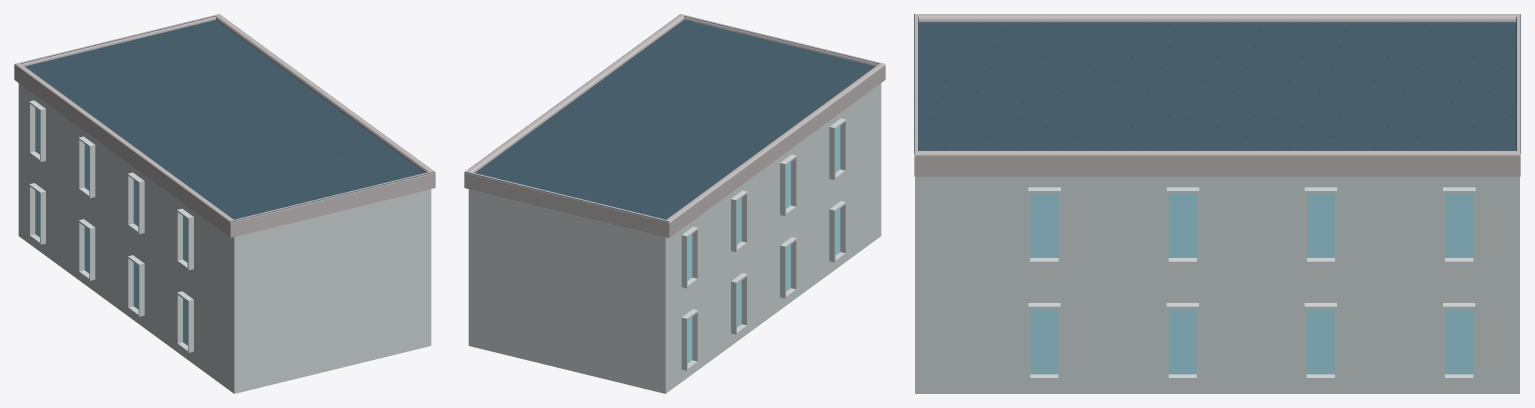
File: Skyscraper.fbx
The picture shows the model from 3 angles, left to right: view 1: azimuth 30°, elevation 25°; view 2: azimuth 150°, elevation 25°; view 3: azimuth 270°, elevation 25°; orthographic projection. The views are drawn at different scales.
Parts seen in each view (by area): view 1: BottomGround, TopGround; view 2: BottomGround, TopGround; view 3: BottomGround, TopGround.
Boxes of the visible parts, x1,y1,x2,y2 form: BottomGround: (18, 83, 431, 393); TopGround: (14, 14, 435, 237); BottomGround: (468, 83, 881, 393); TopGround: (464, 14, 885, 237); BottomGround: (915, 176, 1519, 393); TopGround: (914, 14, 1520, 176).
Size of the model in its own units: 33.45 by 26.65 by 60.27.
